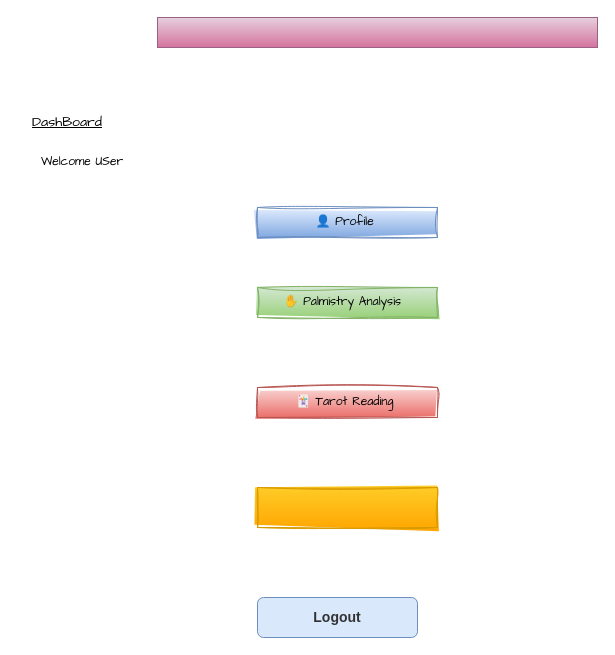
This 615x655 diagram has some shape labels left out. Each missing label, with the centre of its shape:
Palmistry & Tarot Intelligence Platform: the point at 377,32
📜 Reading History: the point at 347,507
